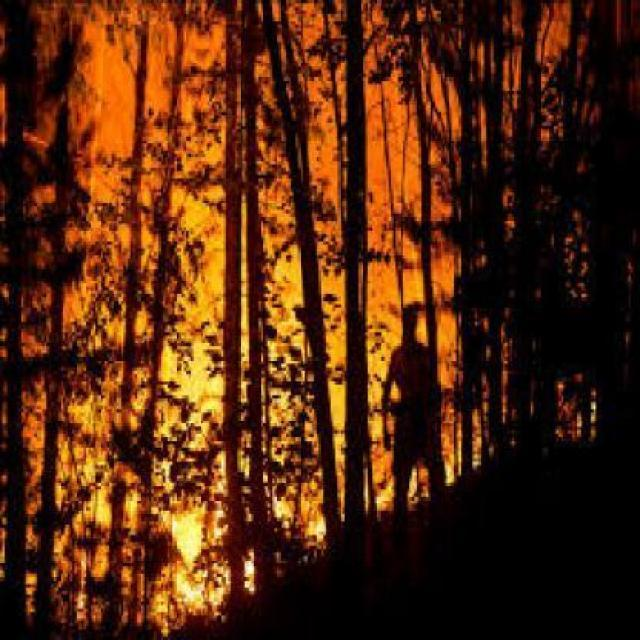Fire: (56, 444, 362, 640)
